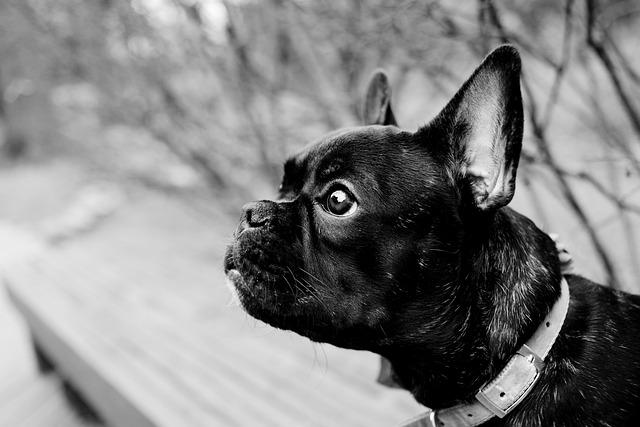Non_Gorille: (161, 0, 640, 427)
